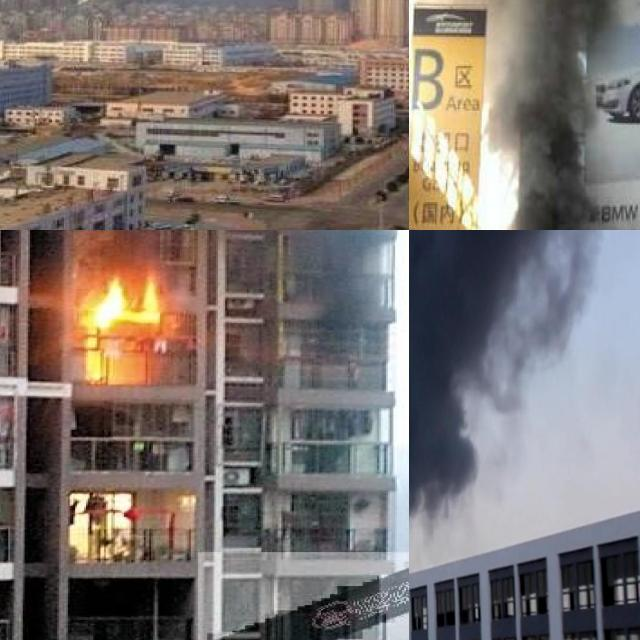fire: (75, 273, 162, 372)
smoke: (409, 230, 640, 607), (427, 0, 614, 230)
